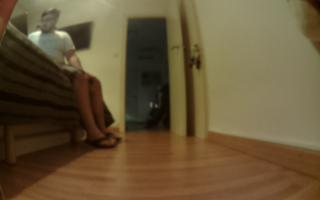person: (30, 6, 134, 148)
